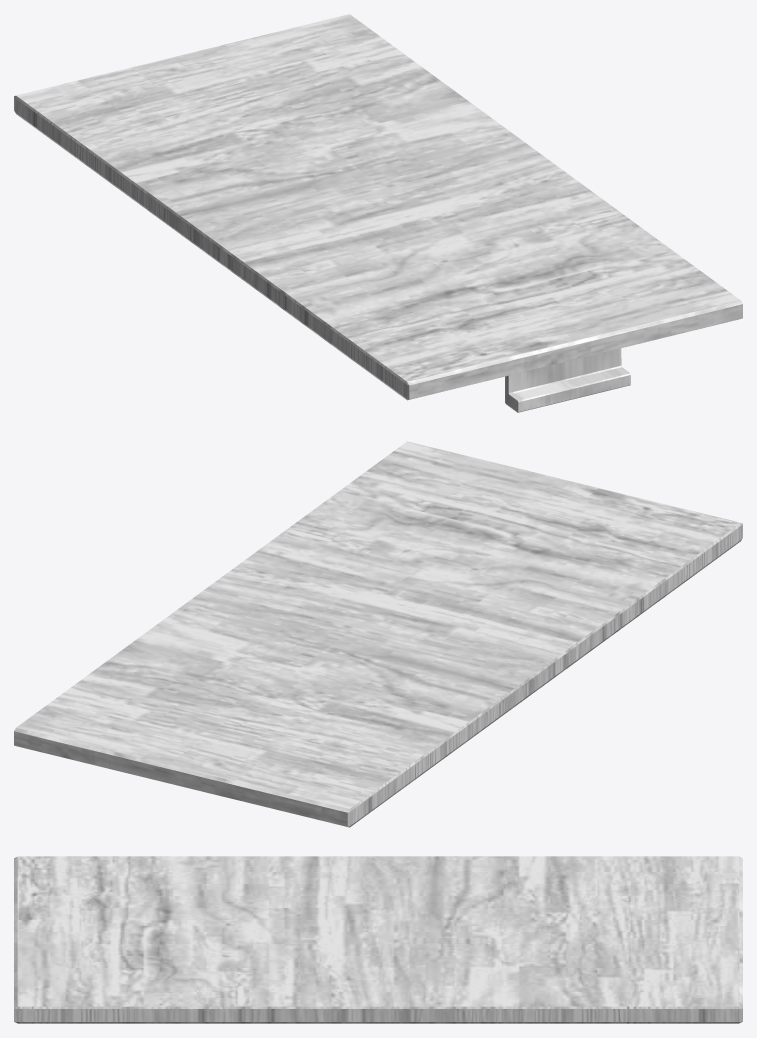
The model's file is Cabinet_aaf022cd.obj.
The picture shows the model from 3 angles, top to bottom: view 1: azimuth 30°, elevation 25°; view 2: azimuth 150°, elevation 25°; view 3: azimuth 270°, elevation 25°; orthographic projection. The views are drawn at different scales.
Parts seen in each view (by area): view 1: CabinetDoorMesh_78f33c69; view 2: CabinetDoorMesh_78f33c69; view 3: CabinetDoorMesh_78f33c69.
Boxes of the visible parts, <box> form: CabinetDoorMesh_78f33c69: <box>14,14,742,412</box>; CabinetDoorMesh_78f33c69: <box>14,441,742,827</box>; CabinetDoorMesh_78f33c69: <box>14,856,742,1023</box>.
Bounding box in the file's own units: 0.3745 × 0.0617 × 0.7643.
